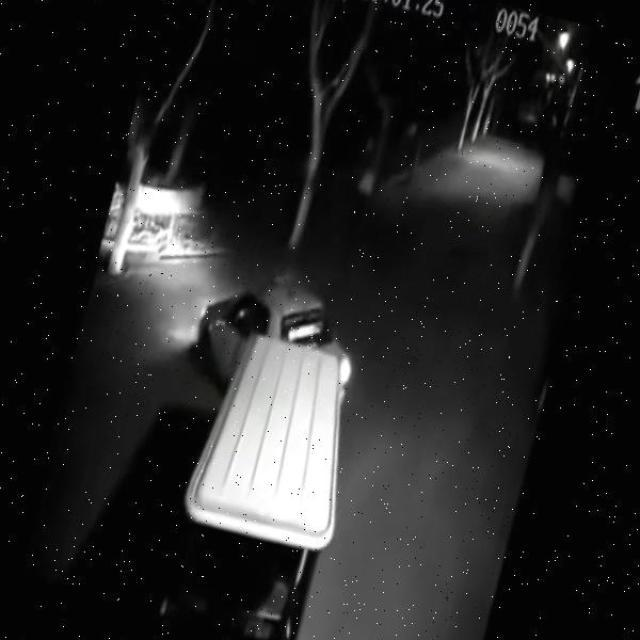accident: (120, 237, 403, 640)
